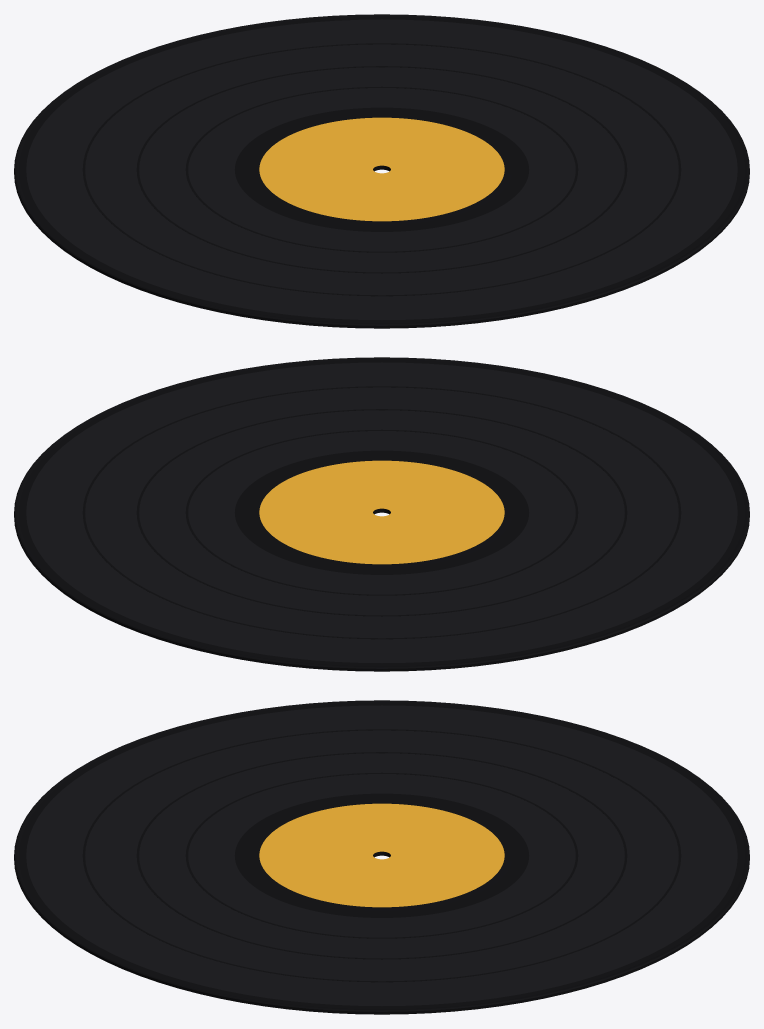
The model's file is Record.obj.
3 views of the same model, one above another, from view 1: azimuth 30°, elevation 25°; view 2: azimuth 150°, elevation 25°; view 3: azimuth 270°, elevation 25° (orthographic).
Parts seen in each view (by area): view 1: Record; view 2: Record; view 3: Record.
Boxes of the visible parts, x1,y1,x2,y2 form: Record: (14, 14, 749, 328); Record: (14, 357, 749, 671); Record: (14, 700, 749, 1014).
Size of the model in its own units: 0.3 by 0.0018 by 0.3.
